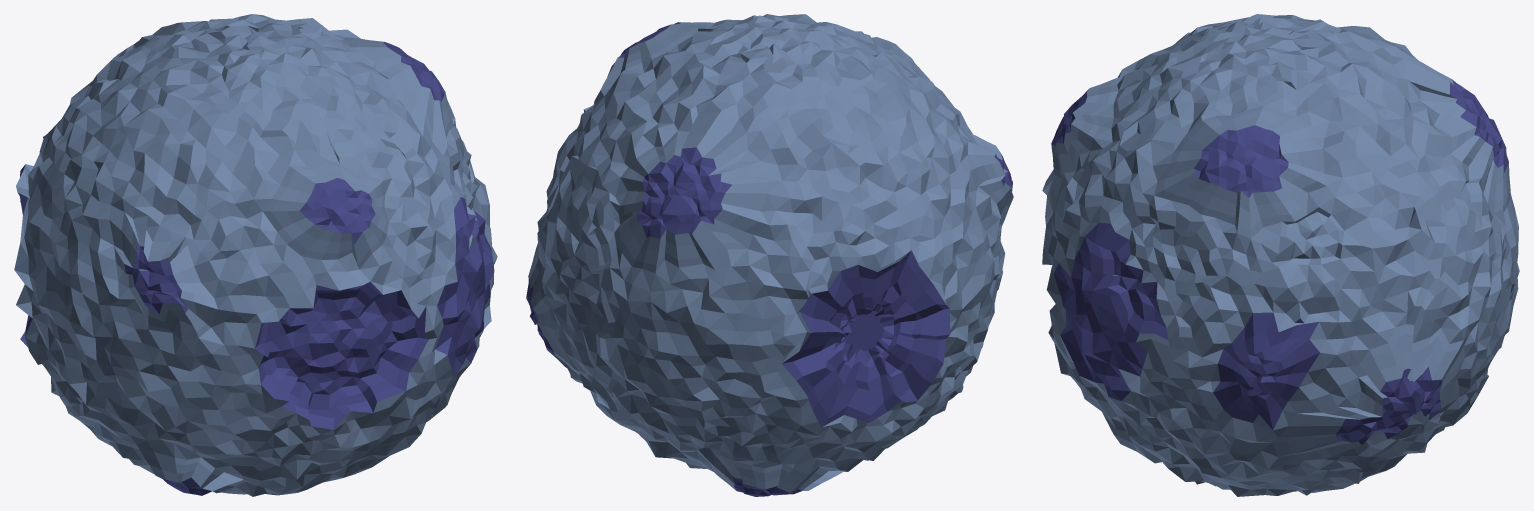
The model's file is Uranus_8.fbx.
3 views of the same model, side by side, from view 1: azimuth 30°, elevation 25°; view 2: azimuth 150°, elevation 25°; view 3: azimuth 270°, elevation 25° (orthographic). The views are drawn at different scales.
Visible parts, largest first — view 1: Icosphere.001; view 2: Icosphere.001; view 3: Icosphere.001.
Boxes of the visible parts, x1,y1,x2,y2 form: Icosphere.001: [14, 14, 497, 496]; Icosphere.001: [526, 14, 1013, 496]; Icosphere.001: [1042, 14, 1519, 496].
Size of the model in its own units: 946 by 926 by 910.
